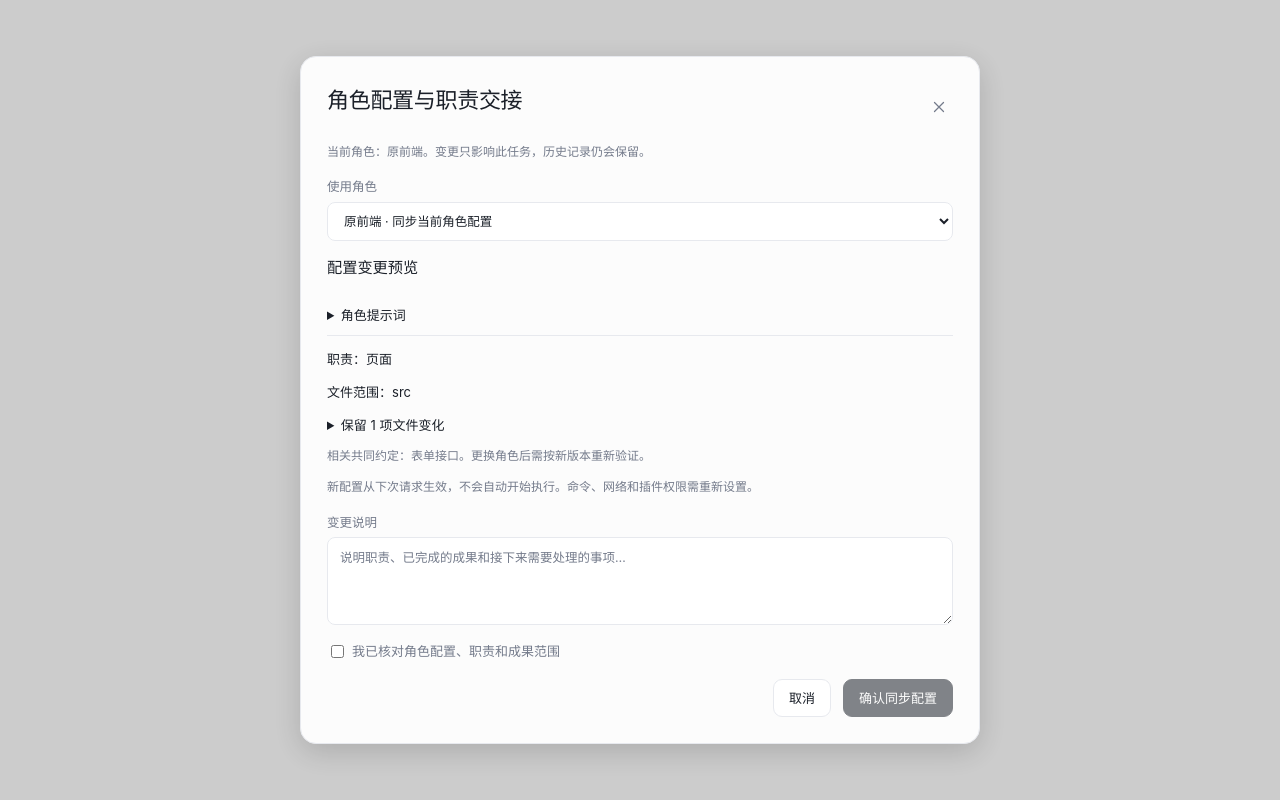
rejects stale confirmation without closing or applying again automatically
This screenshot has width=1280, height=800.
expect the heading "角色提示词" is shown: met, box x1=341 y1=307 x2=406 y2=323
Type "确认" into the text box named "角色变更说明". click: (640, 581)
box: x1=327 y1=537 x2=953 y2=625
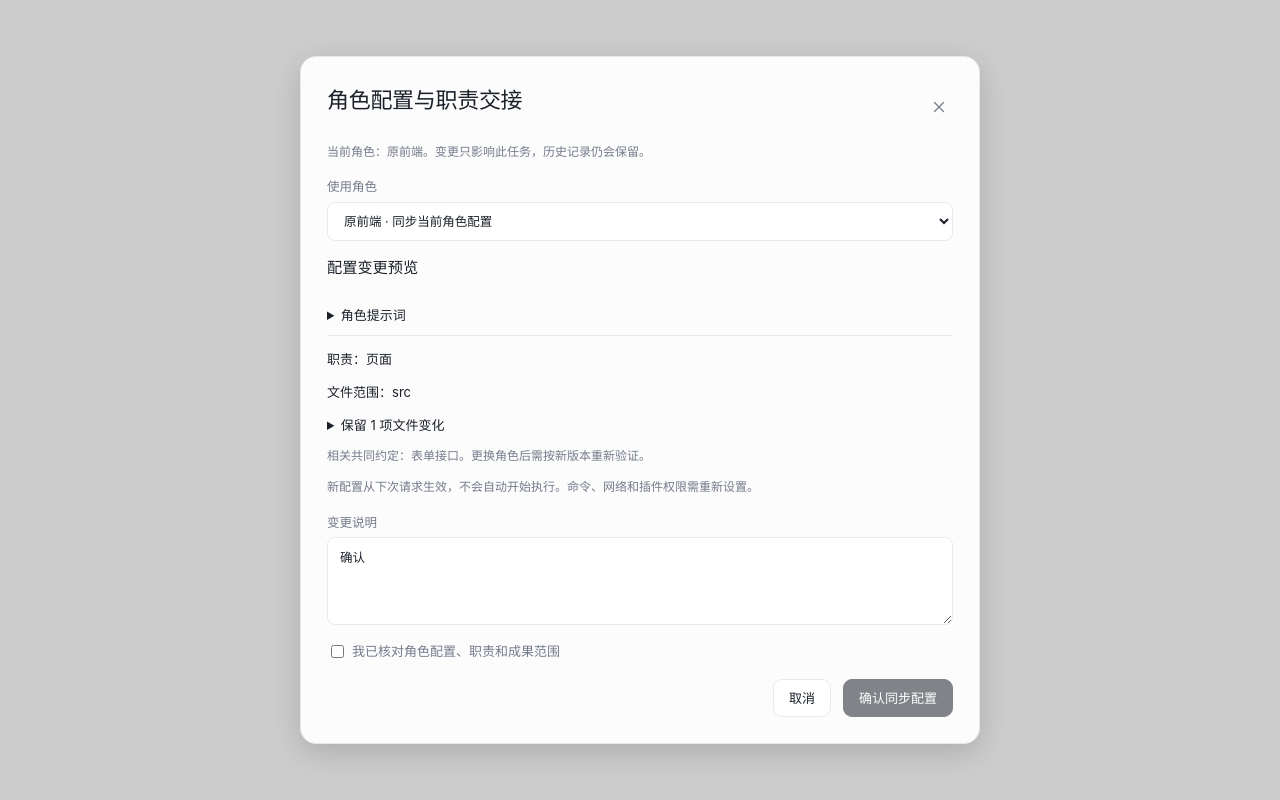
Click the checkbox. click: (338, 651)
box: x1=331 y1=644 x2=344 y2=658
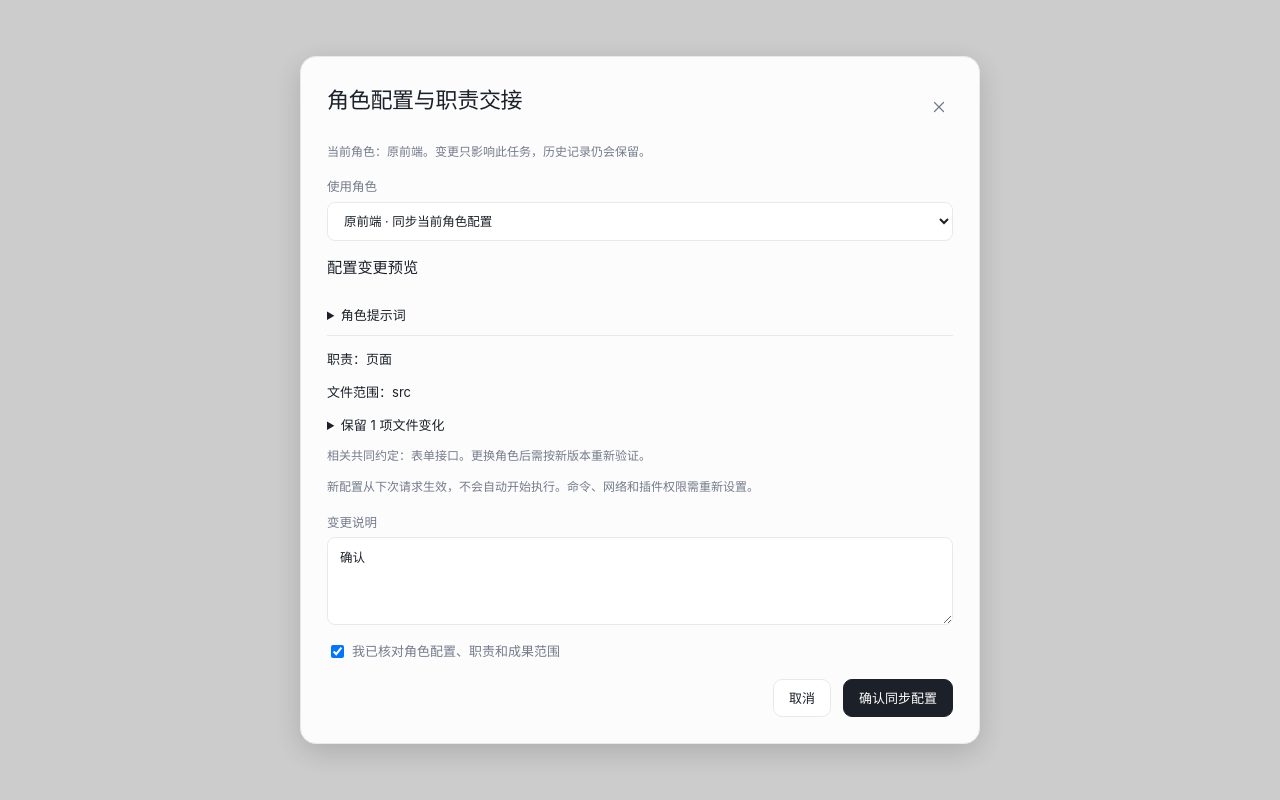
Click the button "确认同步配置". click: (898, 698)
box: x1=843 y1=679 x2=953 y2=717
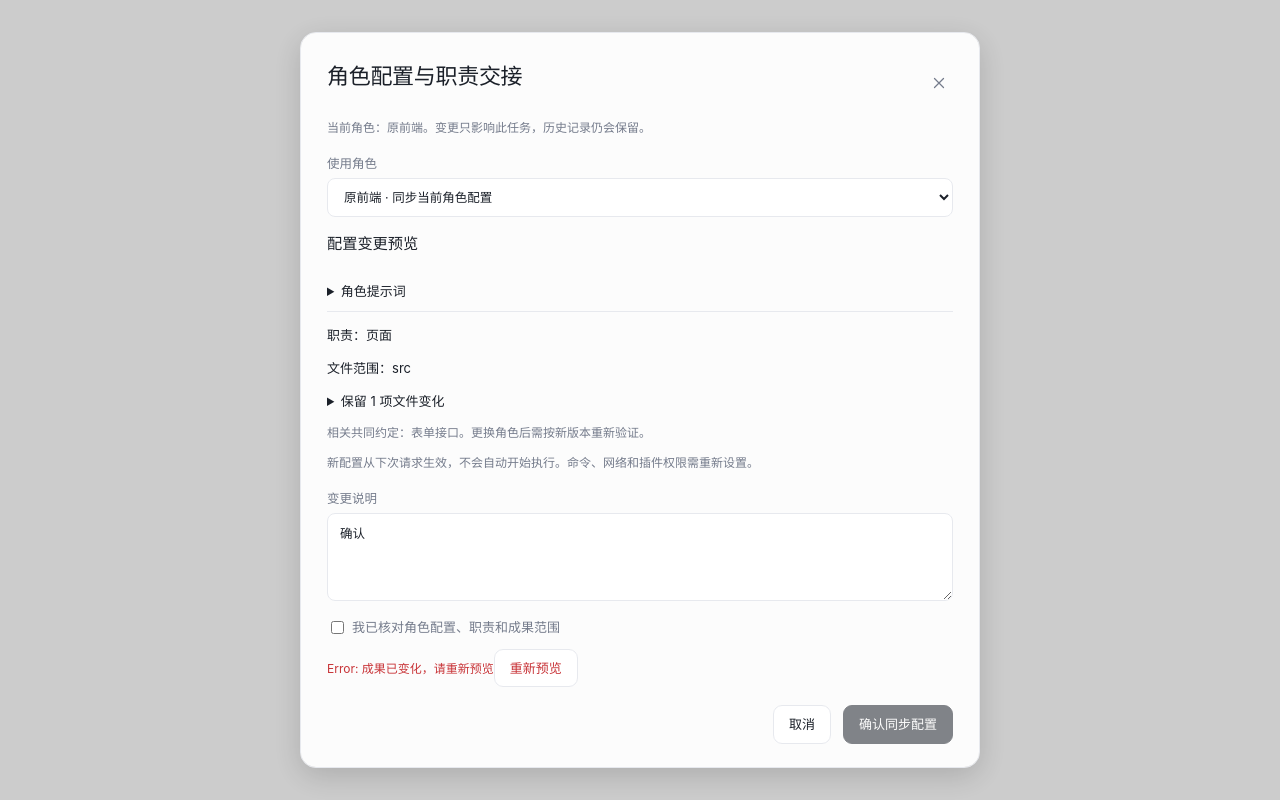
expect the checkbox is not checked: met, box x1=331 y1=621 x2=344 y2=634
expect the text "Error: 成果已变化，请重新预览" is shown: met, box x1=327 y1=661 x2=494 y2=676
